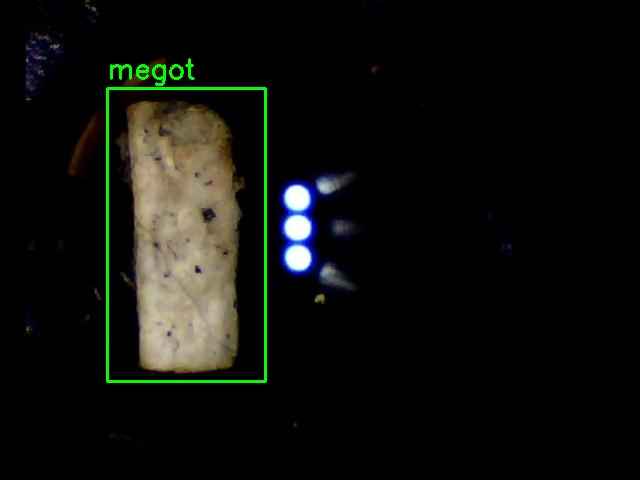megot: (107, 88, 265, 381)
